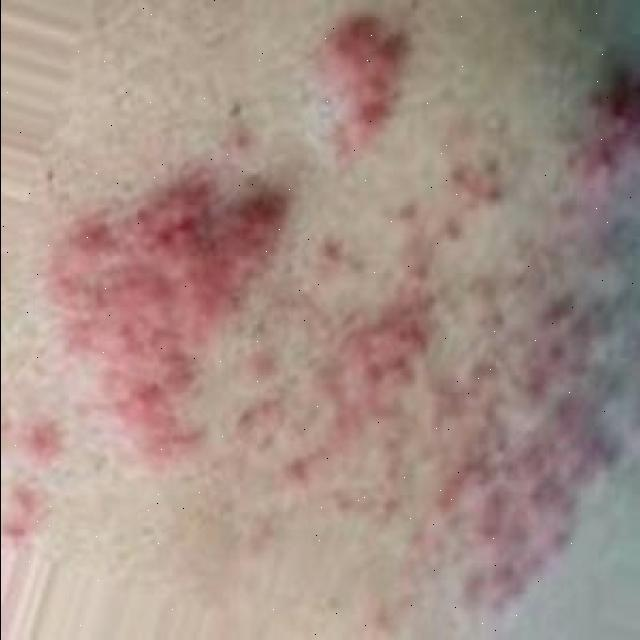Shingles: (4, 18, 640, 605)
